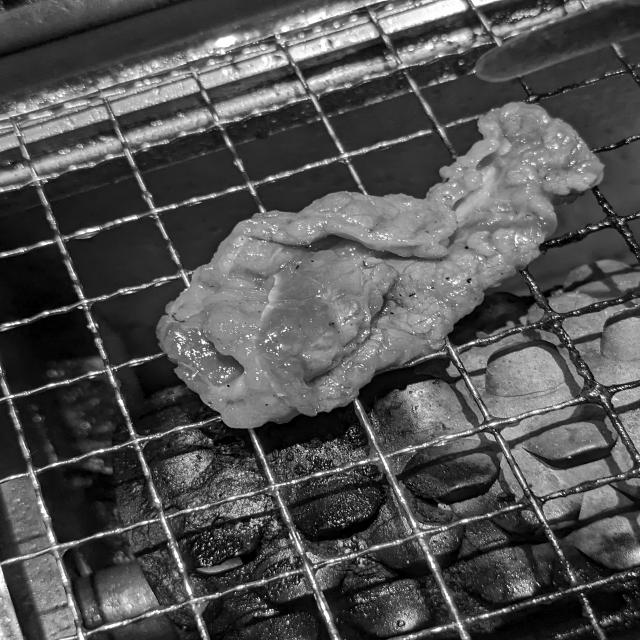NG undercooked beef,: (142, 88, 629, 449)
